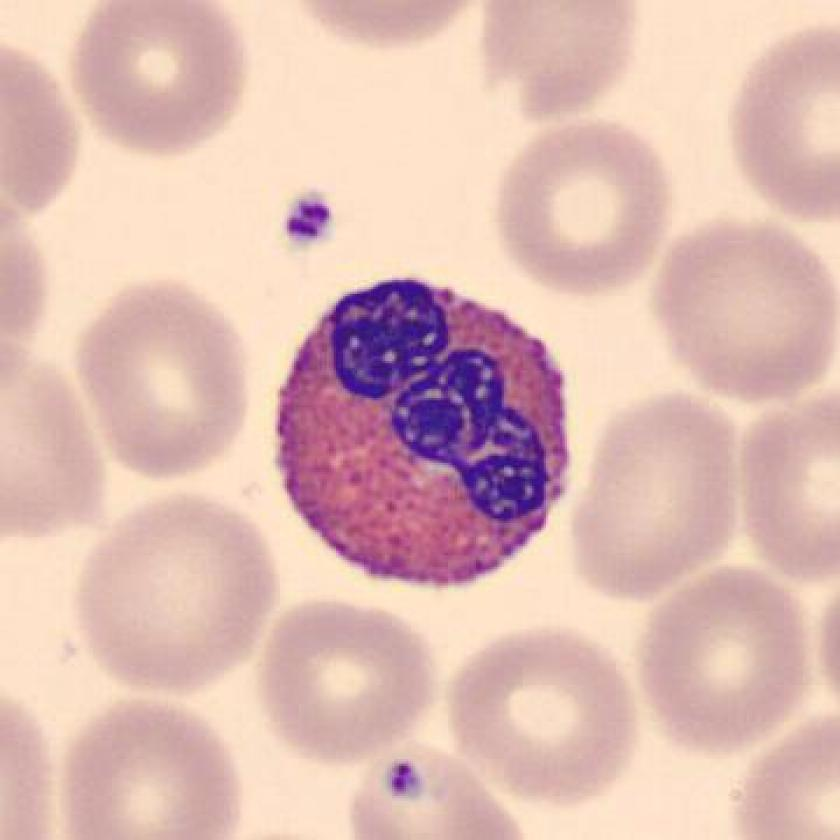eosinophil: (265, 269, 580, 605)
